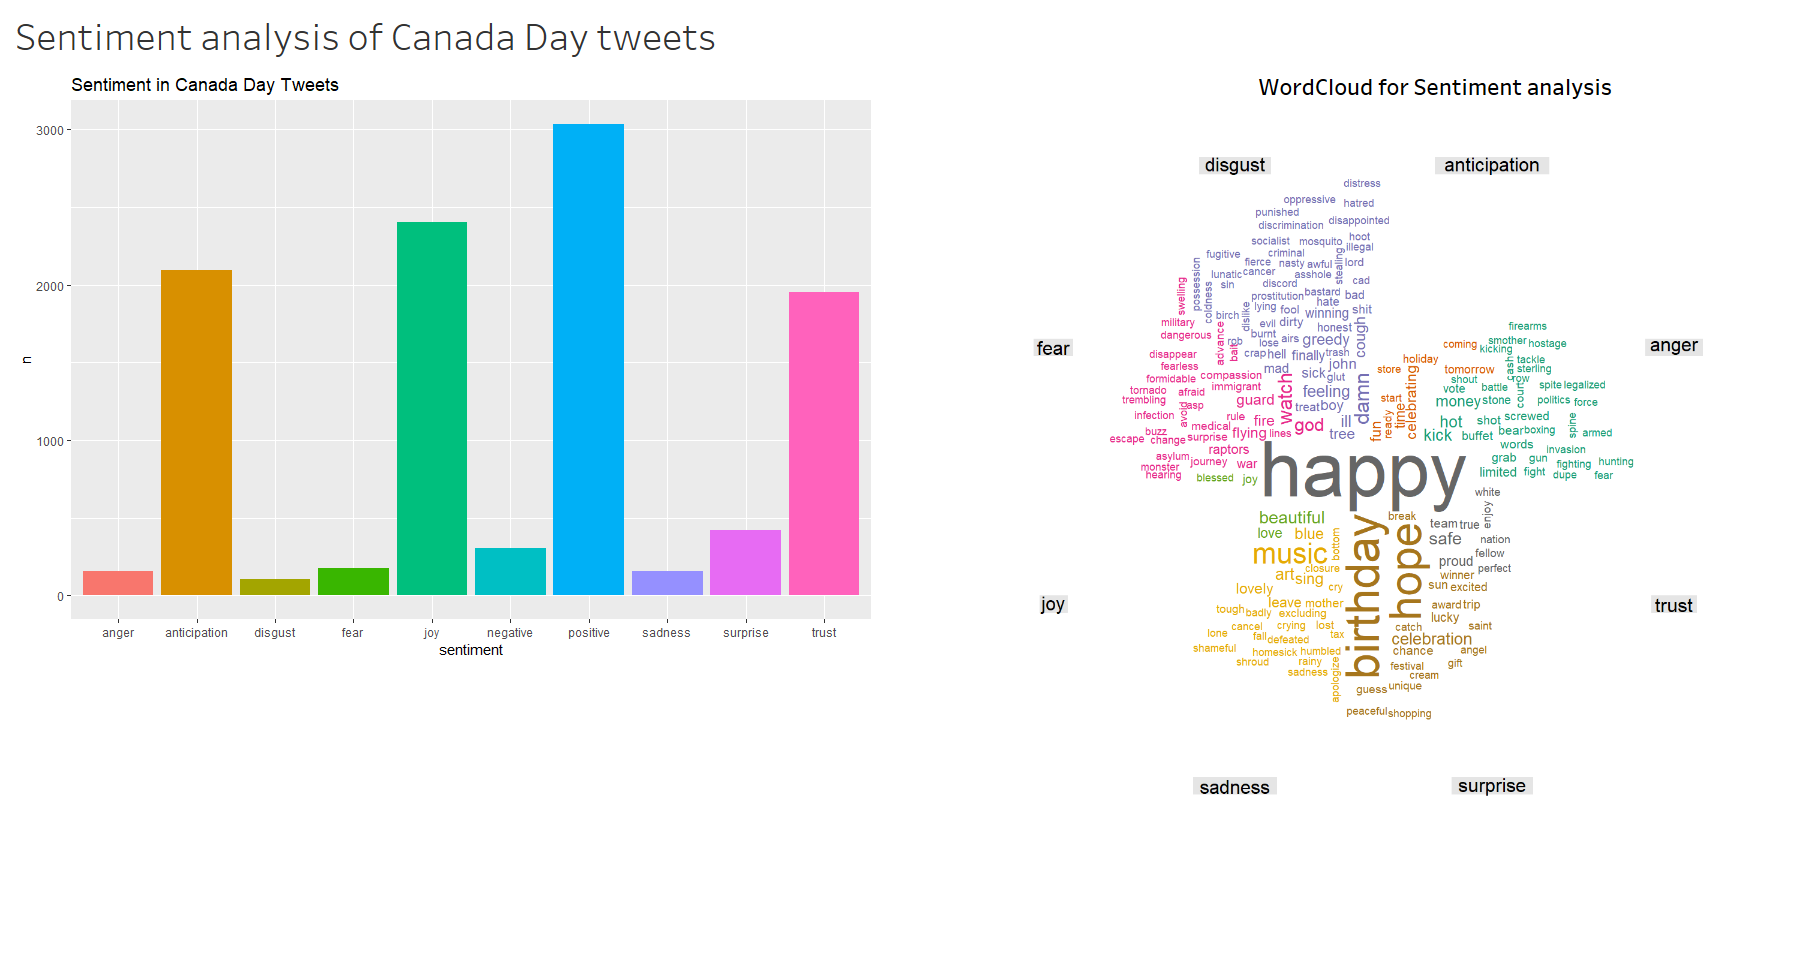

This screenshot's page, from the dashboard's own definition file:
{"tool":"tableau","page":{"name":"Sentiment analysis of Canada Day tweets","canvas":[1000,1000],"units":"permille","ordinal":1},"visuals":[{"type":"title","box":[5,9.8,990,70.9]},{"type":"image","param":"Image/sentiments.png","box":[5,80.7,494.8,909.5]},{"type":"text","box":[499.8,80.7,495.2,39]},{"type":"image","param":"Image/wordcloud.png","box":[499.8,119.7,495.2,870.5]}]}

Visuals, with their boxes on the dashboard's canvas, which has no fixed pixel size, in thousandths of its width and height (x1, y1, x2, y2). These are canvas units, not pixel positions in the 1809x955 screenshot, which may show the page scaled, cropped or inside an application window:
title: Rect(5, 10, 995, 81)
image: Rect(5, 81, 500, 990)
text: Rect(500, 81, 995, 120)
image: Rect(500, 120, 995, 990)
